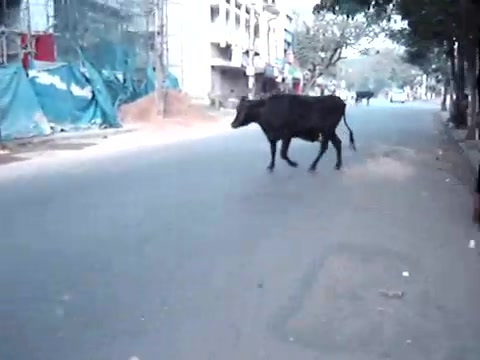cow: (234, 92, 357, 172)
